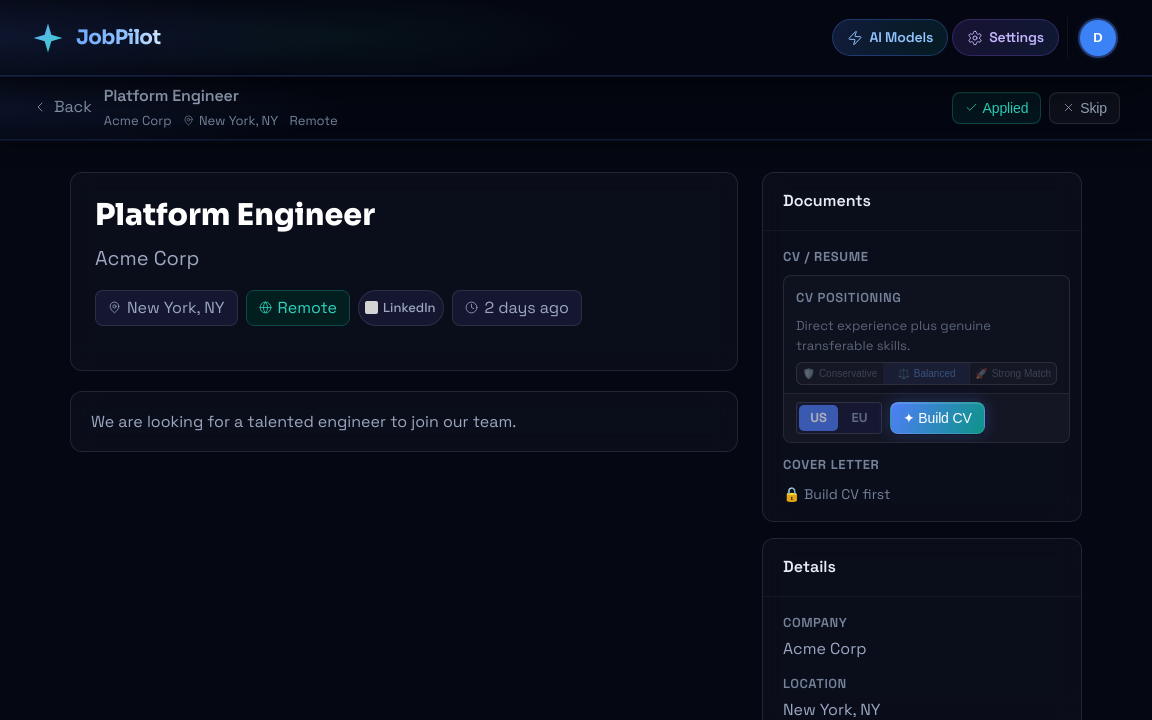
it: Building a resume › shows Open CV link once the build completes
Expected: the heading "Platform Engineer" is shown, [95,196,375,234]
Click the button "✦ Build CV": (937, 418) [890,402,985,434]
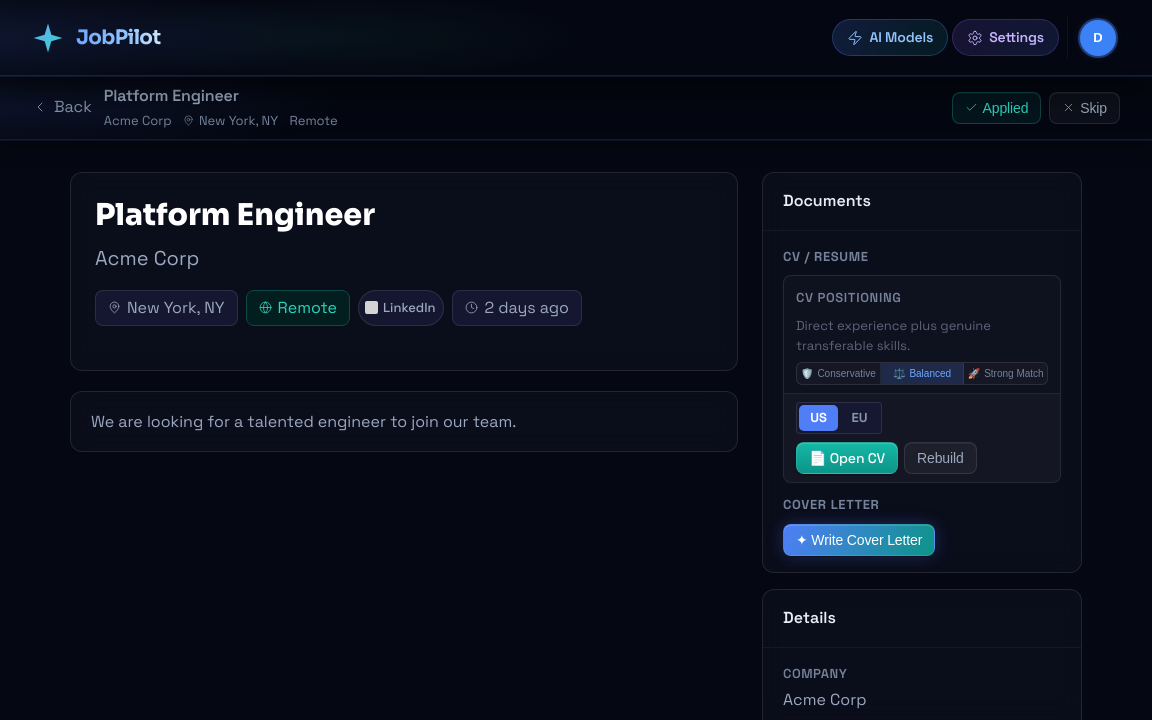
Expected: the text "Building" is shown, [783,275,1061,483]
Expected: the link "📄 Open CV" is shown, [796,442,898,474]
